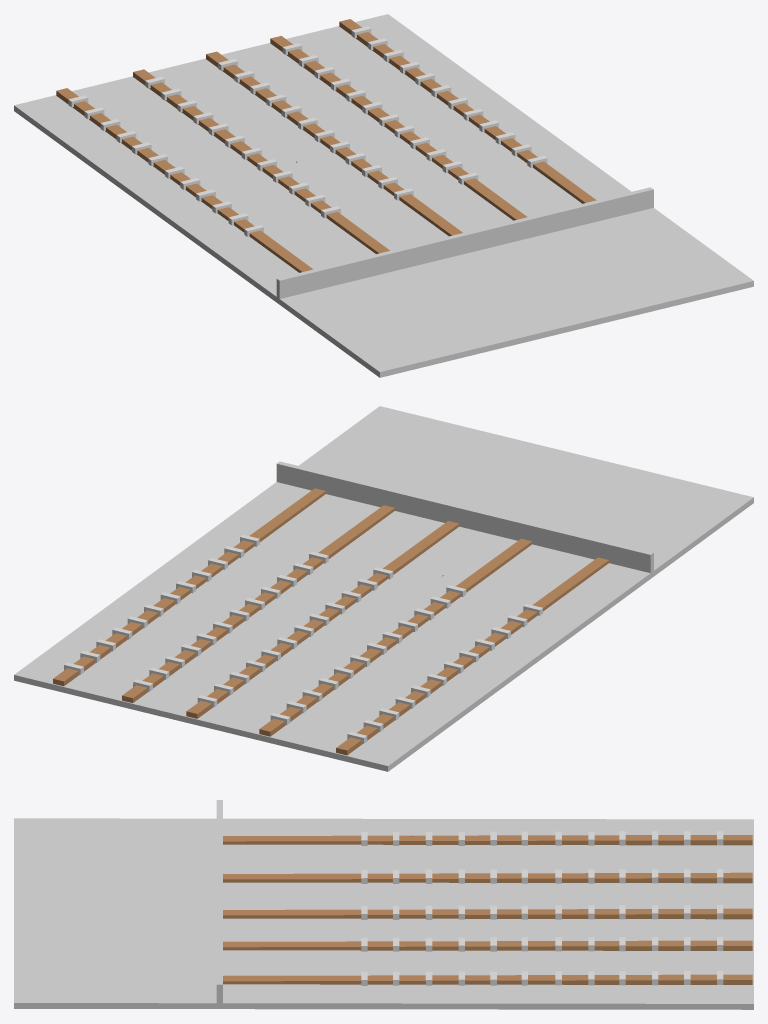
The model's file is shooting_range_area.fbx.
3 renders of one model, top to bottom at view 1: azimuth 30°, elevation 25°; view 2: azimuth 150°, elevation 25°; view 3: azimuth 270°, elevation 25°, orthographic.
Parts seen in each view (by area): view 1: Cube.005, Cube, Cube.003, Cube.022, Cube.004, Cube.001, Cube.002; view 2: Cube.005, Cube, Cube.001, Cube.004, Cube.003, Cube.002, Cube.022; view 3: Cube.005, Cube.003, Cube.004, Cube.002, Cube.001, Cube.022, Cube.
Part boxes in pixels (x1,y1,x2,y2): Cube.005: (14,14,753,377); Cube: (276,187,653,302); Cube.003: (270,36,527,220); Cube.022: (56,88,313,272); Cube.004: (339,19,596,203); Cube.001: (133,69,389,253); Cube.002: (206,51,462,236); Cube.005: (14,406,753,771); Cube: (276,461,653,577); Cube.001: (259,538,532,736); Cube.004: (53,488,325,686); Cube.003: (122,505,394,702); Cube.002: (186,521,459,718); Cube.022: (336,557,608,755); Cube.005: (14,818,753,1009); Cube.003: (223,937,752,951); Cube.004: (223,971,752,985); Cube.002: (223,905,752,919); Cube.001: (223,869,752,883); Cube.022: (223,831,752,845); Cube: (216,800,222,1008).
Bounding box in the file's own units: 1351 × 156 × 2288.
